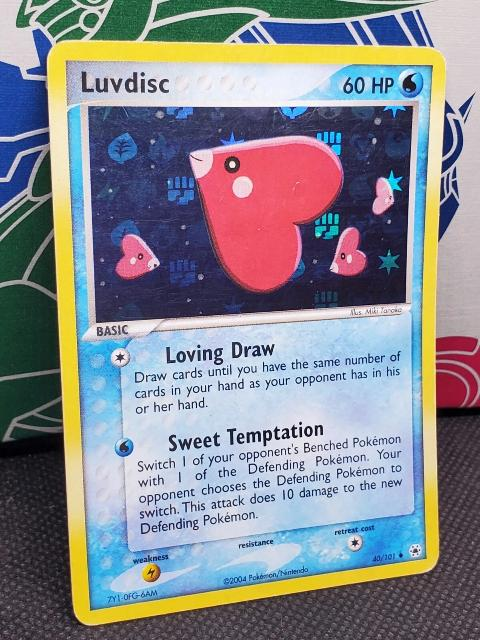Card: (42, 35, 452, 632)
Name: (75, 67, 175, 98)
